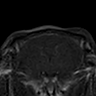Brain: (20, 35, 80, 75)
